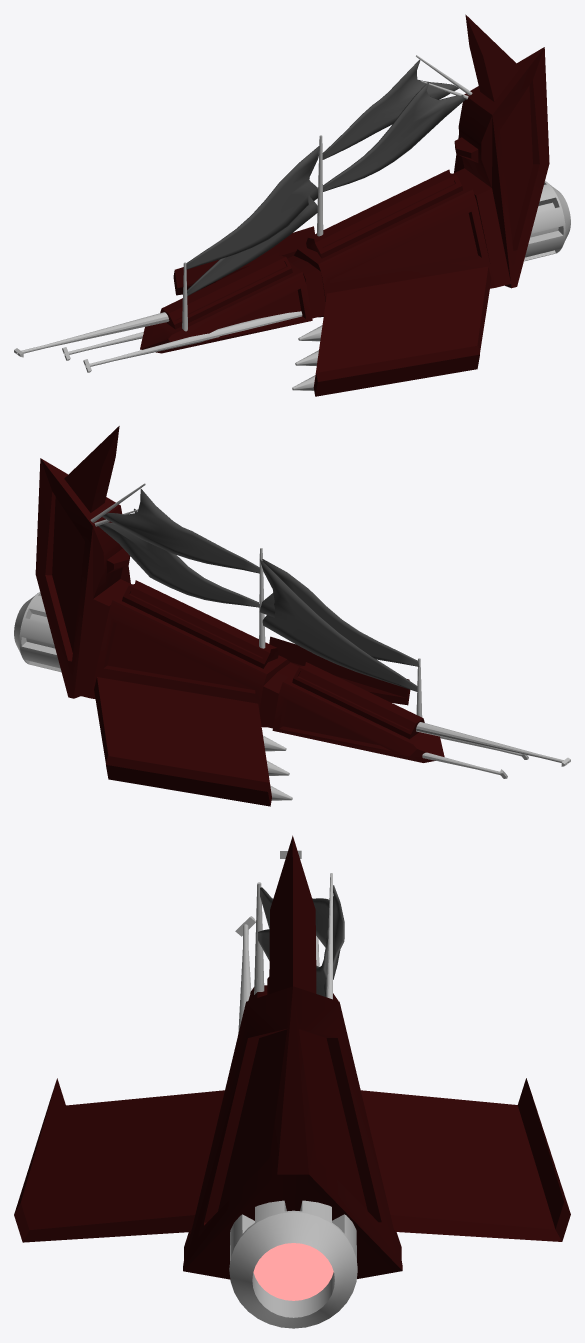
Rendered from Pirateship.fbx.
The picture shows the model from 3 angles, top to bottom: view 1: azimuth 30°, elevation 25°; view 2: azimuth 150°, elevation 25°; view 3: azimuth 270°, elevation 25°; orthographic projection. The views are drawn at different scales.
Visible parts, largest first — view 1: Pirateship, Circle.004, Circle.006, CanonBattery, Circle.009, Circle.008, Rockets; view 2: Pirateship, Circle.008, Circle.009, Circle.006, Circle.004, CanonBattery, Rockets; view 3: Pirateship, Circle.009, CanonBattery.
Part boxes in pixels (bbox=[...]): Pirateship: bbox=[140, 14, 570, 396]; Circle.004: bbox=[186, 146, 319, 269]; Circle.006: bbox=[323, 81, 465, 191]; CanonBattery: bbox=[14, 311, 302, 372]; Circle.009: bbox=[322, 59, 458, 159]; Circle.008: bbox=[187, 149, 319, 295]; Rockets: bbox=[292, 325, 322, 390]; Pirateship: bbox=[14, 426, 444, 806]; Circle.008: bbox=[259, 559, 417, 691]; Circle.009: bbox=[101, 489, 259, 573]; Circle.006: bbox=[98, 508, 259, 607]; Circle.004: bbox=[259, 559, 419, 666]; CanonBattery: bbox=[416, 722, 570, 778]; Rockets: bbox=[263, 735, 292, 800]; Pirateship: bbox=[14, 835, 570, 1328]; Circle.009: bbox=[312, 885, 344, 979]; CanonBattery: bbox=[235, 850, 319, 1033].
Size of the model in its own units: 6217 by 3127 by 3327.
